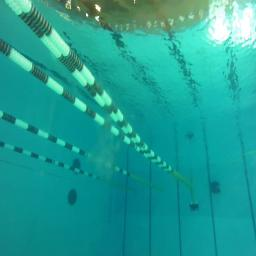Full: (210, 188, 222, 195)
front: (189, 200, 200, 212)
